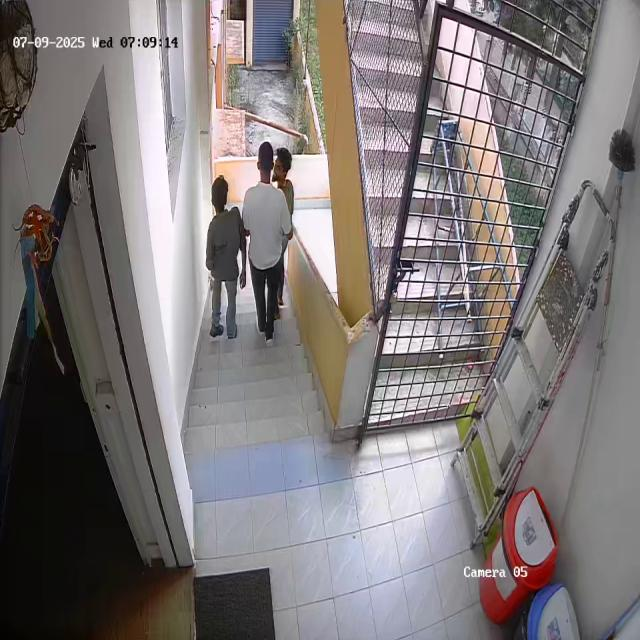person: (243, 141, 285, 346), (205, 176, 240, 336)
